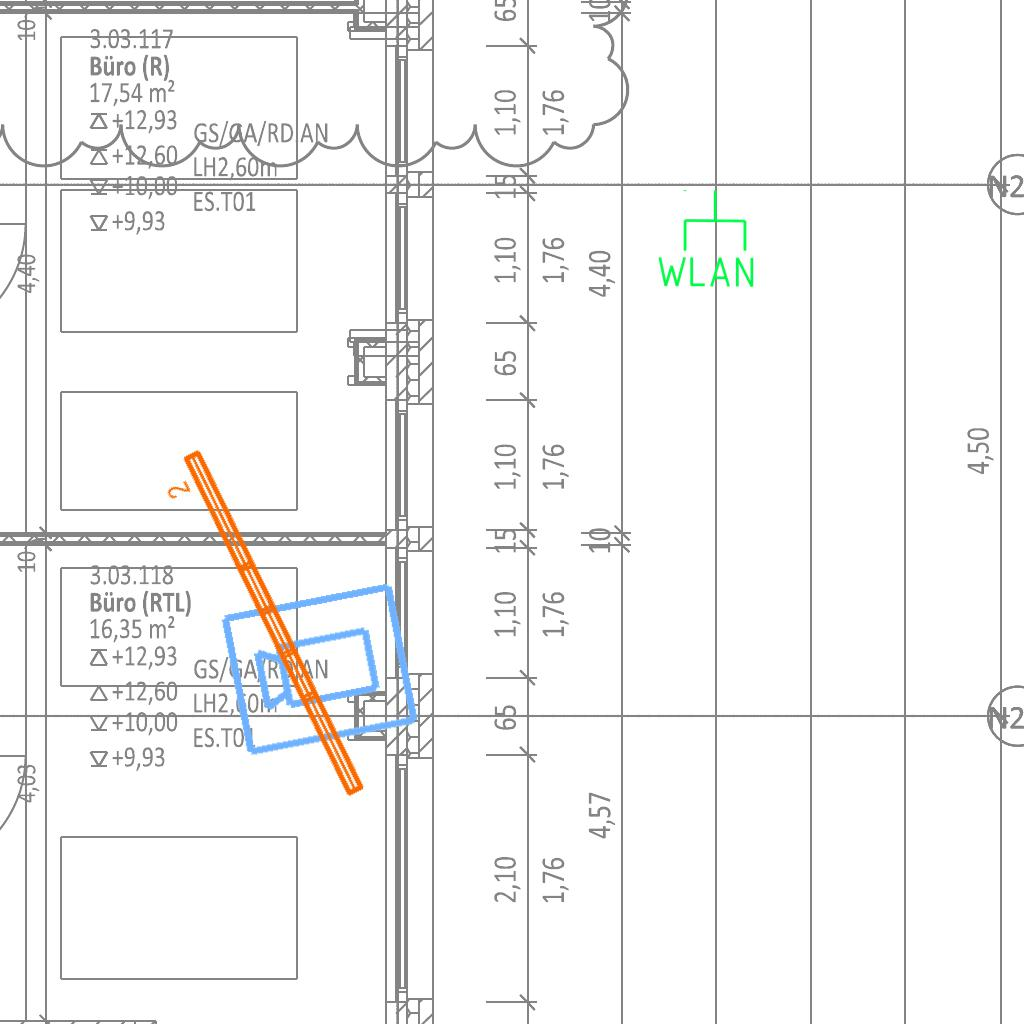Ambulanz_Pendelleuchte_LED: (152, 442, 373, 816)
KFO_Kamera_mit_Festobjektiv: (215, 575, 425, 761)
WLAN: (653, 187, 758, 291)
